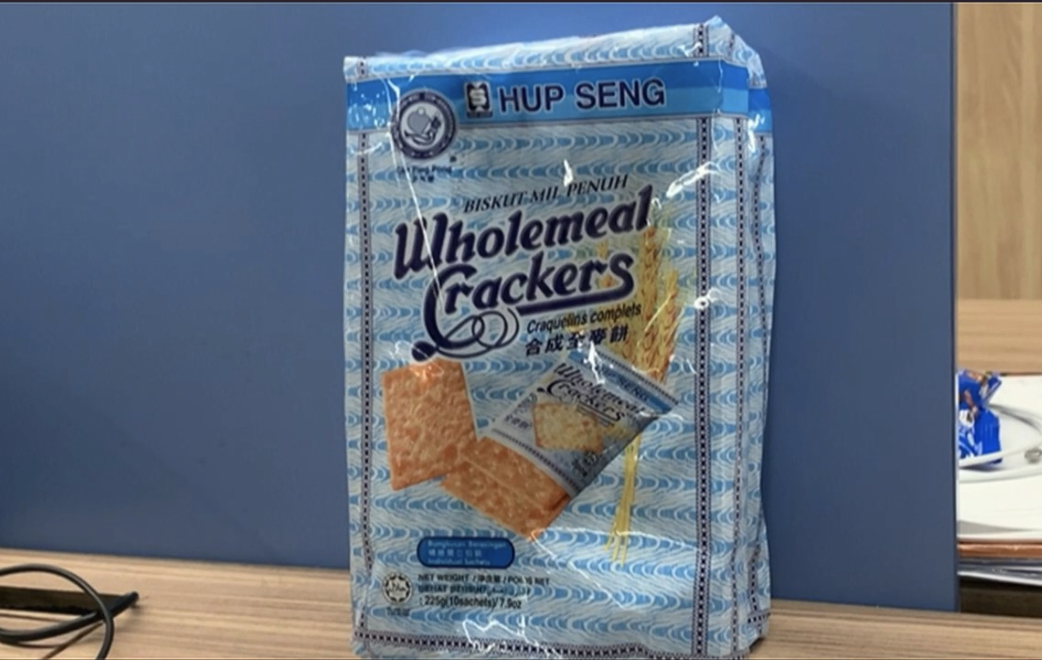crackers_150g: (374, 70, 707, 620)
